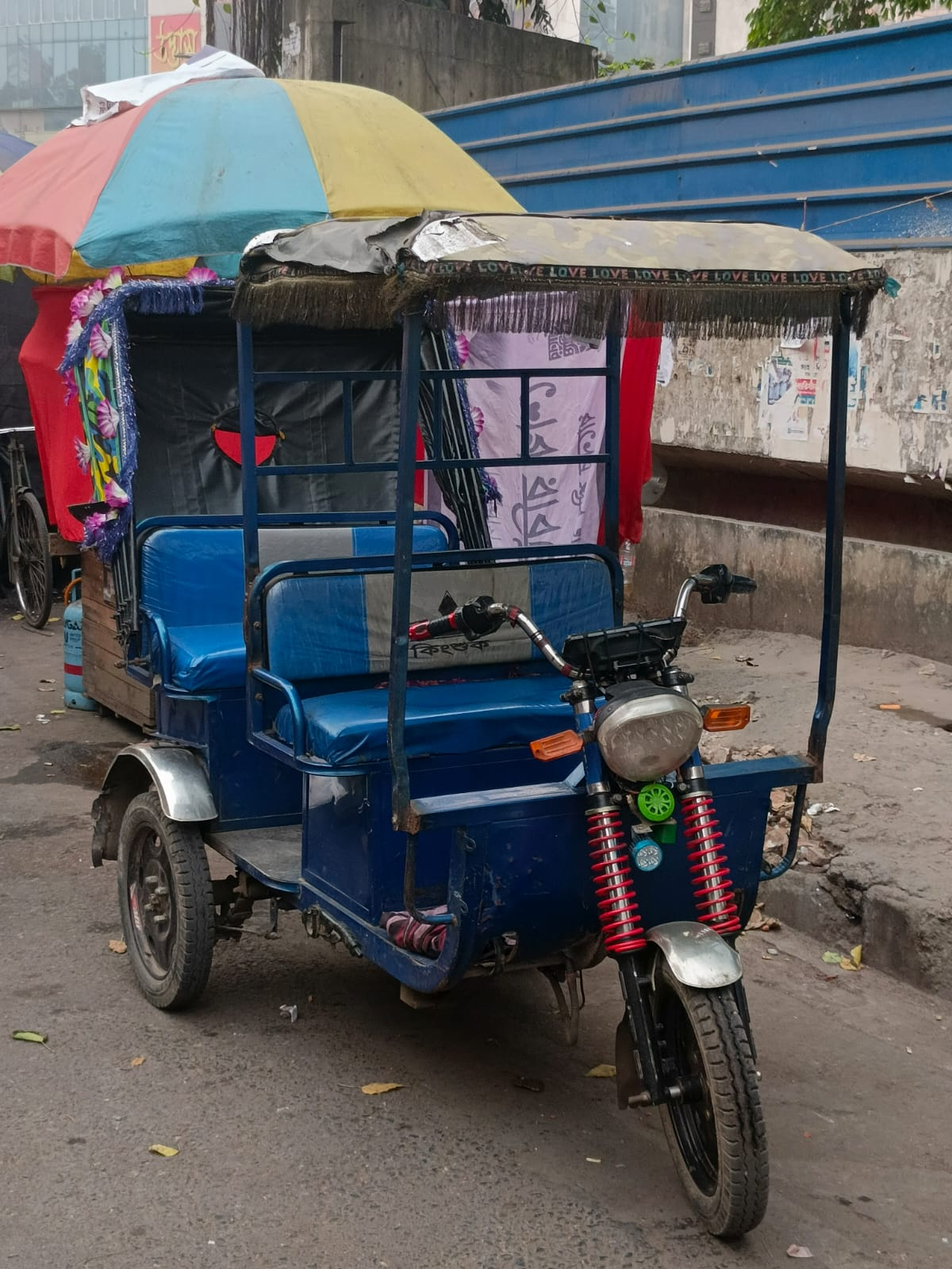auto-ricksaw: (63, 200, 865, 1269)
